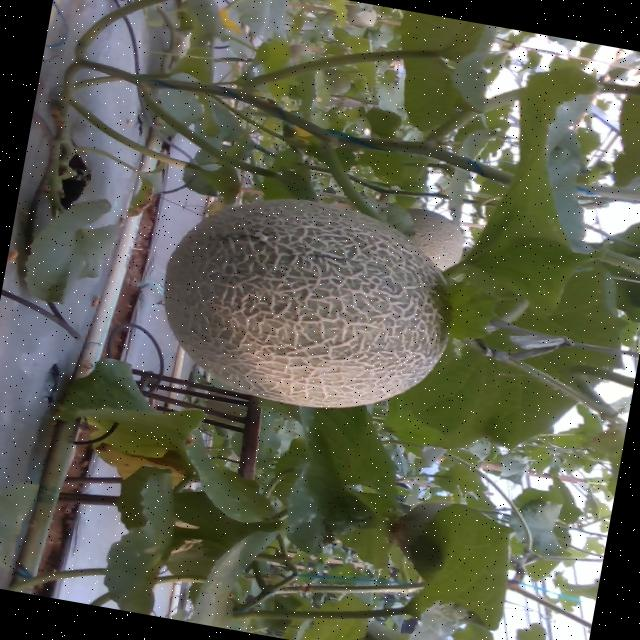melon: (163, 199, 446, 408)
